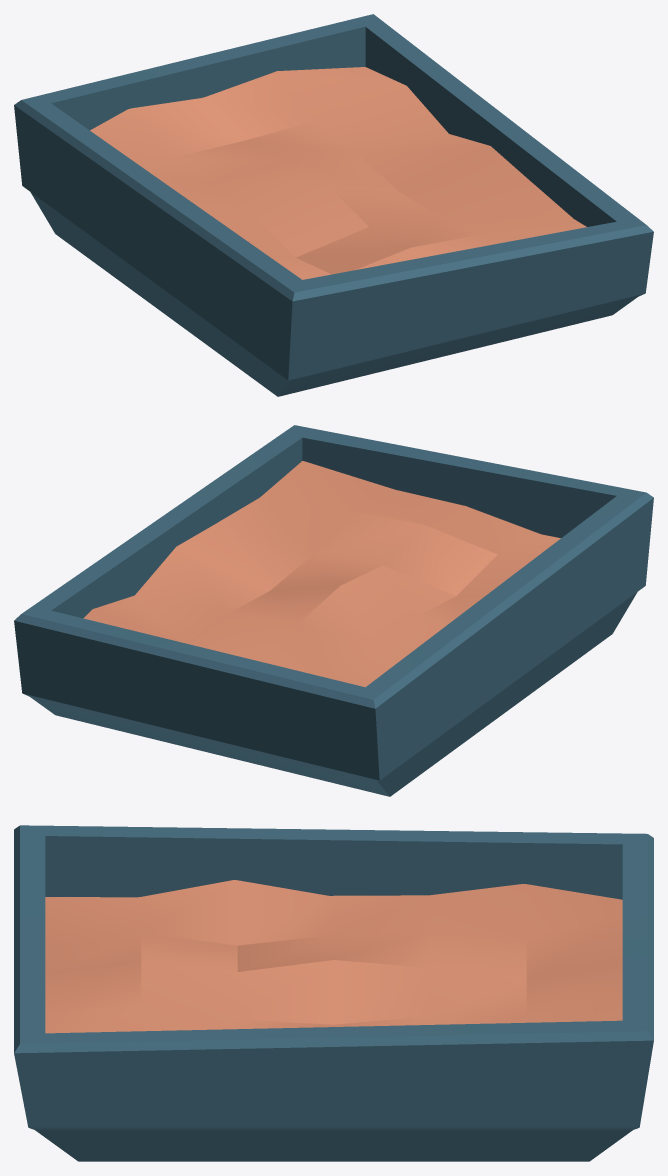
Rendered from fooddish_a002.glb.
3 views of the same model, one above another, from view 1: azimuth 30°, elevation 25°; view 2: azimuth 150°, elevation 25°; view 3: azimuth 270°, elevation 25° (orthographic). The views are drawn at different scales.
Visible parts, largest first — view 1: fooddish_a002; view 2: fooddish_a002; view 3: fooddish_a002.
Part boxes in pixels (left/top/right/bottom): fooddish_a002: left=14, top=14, right=653, bottom=396; fooddish_a002: left=14, top=425, right=653, bottom=796; fooddish_a002: left=14, top=825, right=653, bottom=1161.
Size of the model in its own units: 0.7674 by 0.2537 by 1.02.
1 material, 1 textured.
